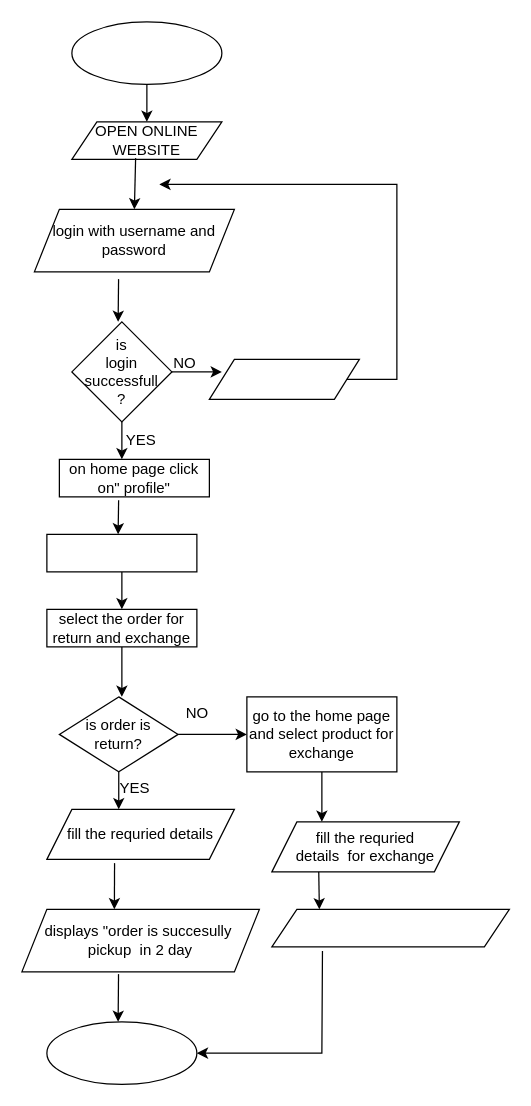
This 531x1106 diagram has some shape labels left out. Here are the shapes that lost their labels. From the top down, the centre of each, then its label:
point (146, 52): START
point (283, 378): Reset password
point (121, 552): click on " your orders"
point (390, 927): displays " your order will successfully deliver in 2 days
point (121, 1052): STOP
